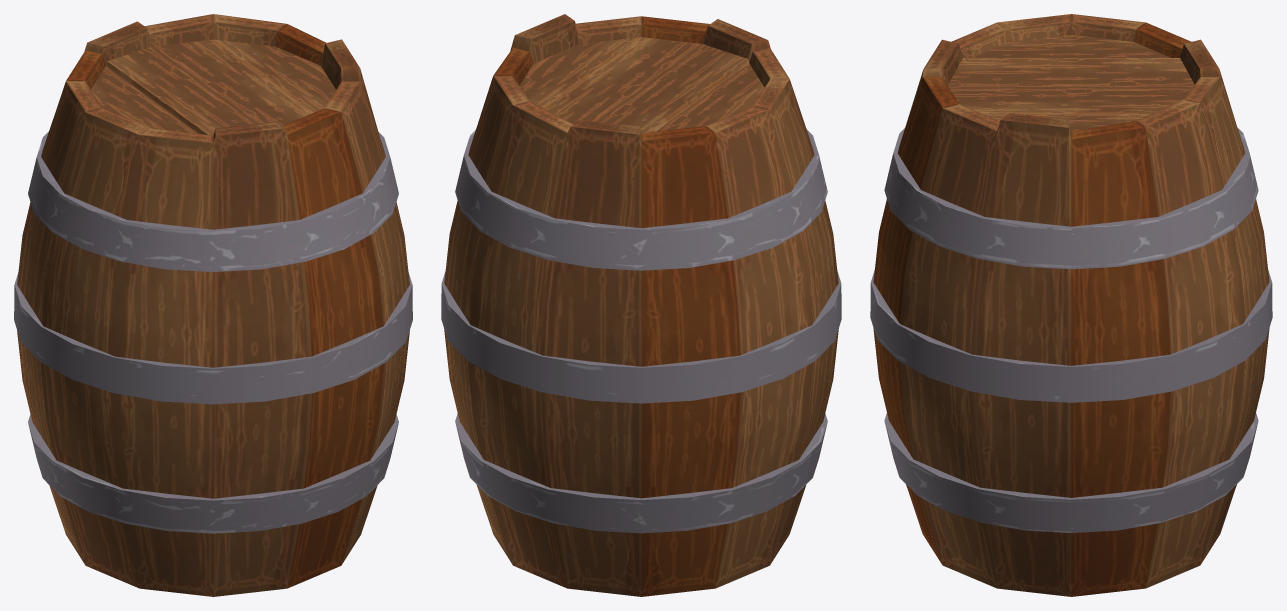
Rendered from fp_barrel.glb.
3 views of the same model, side by side, from view 1: azimuth 30°, elevation 25°; view 2: azimuth 150°, elevation 25°; view 3: azimuth 270°, elevation 25° (orthographic).
Parts seen in each view (by area): view 1: Barrel; view 2: Barrel; view 3: Barrel.
Boxes of the visible parts, x1=… form: Barrel: x1=14, y1=14, x2=412, y2=596; Barrel: x1=441, y1=14, x2=841, y2=596; Barrel: x1=870, y1=14, x2=1272, y2=596.
Size of the model in its own units: 0.698 by 0.898 by 0.698.
Materials: 2 (2 with a texture image).
